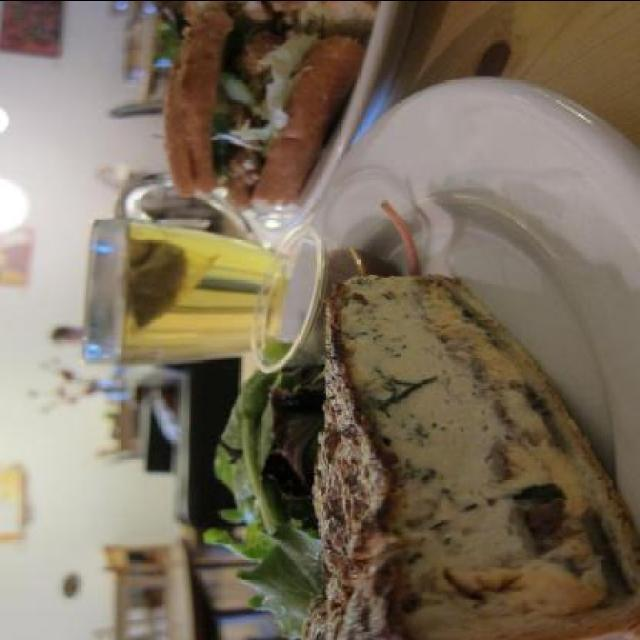Sandwich: (303, 271, 639, 640), (155, 2, 377, 210)
